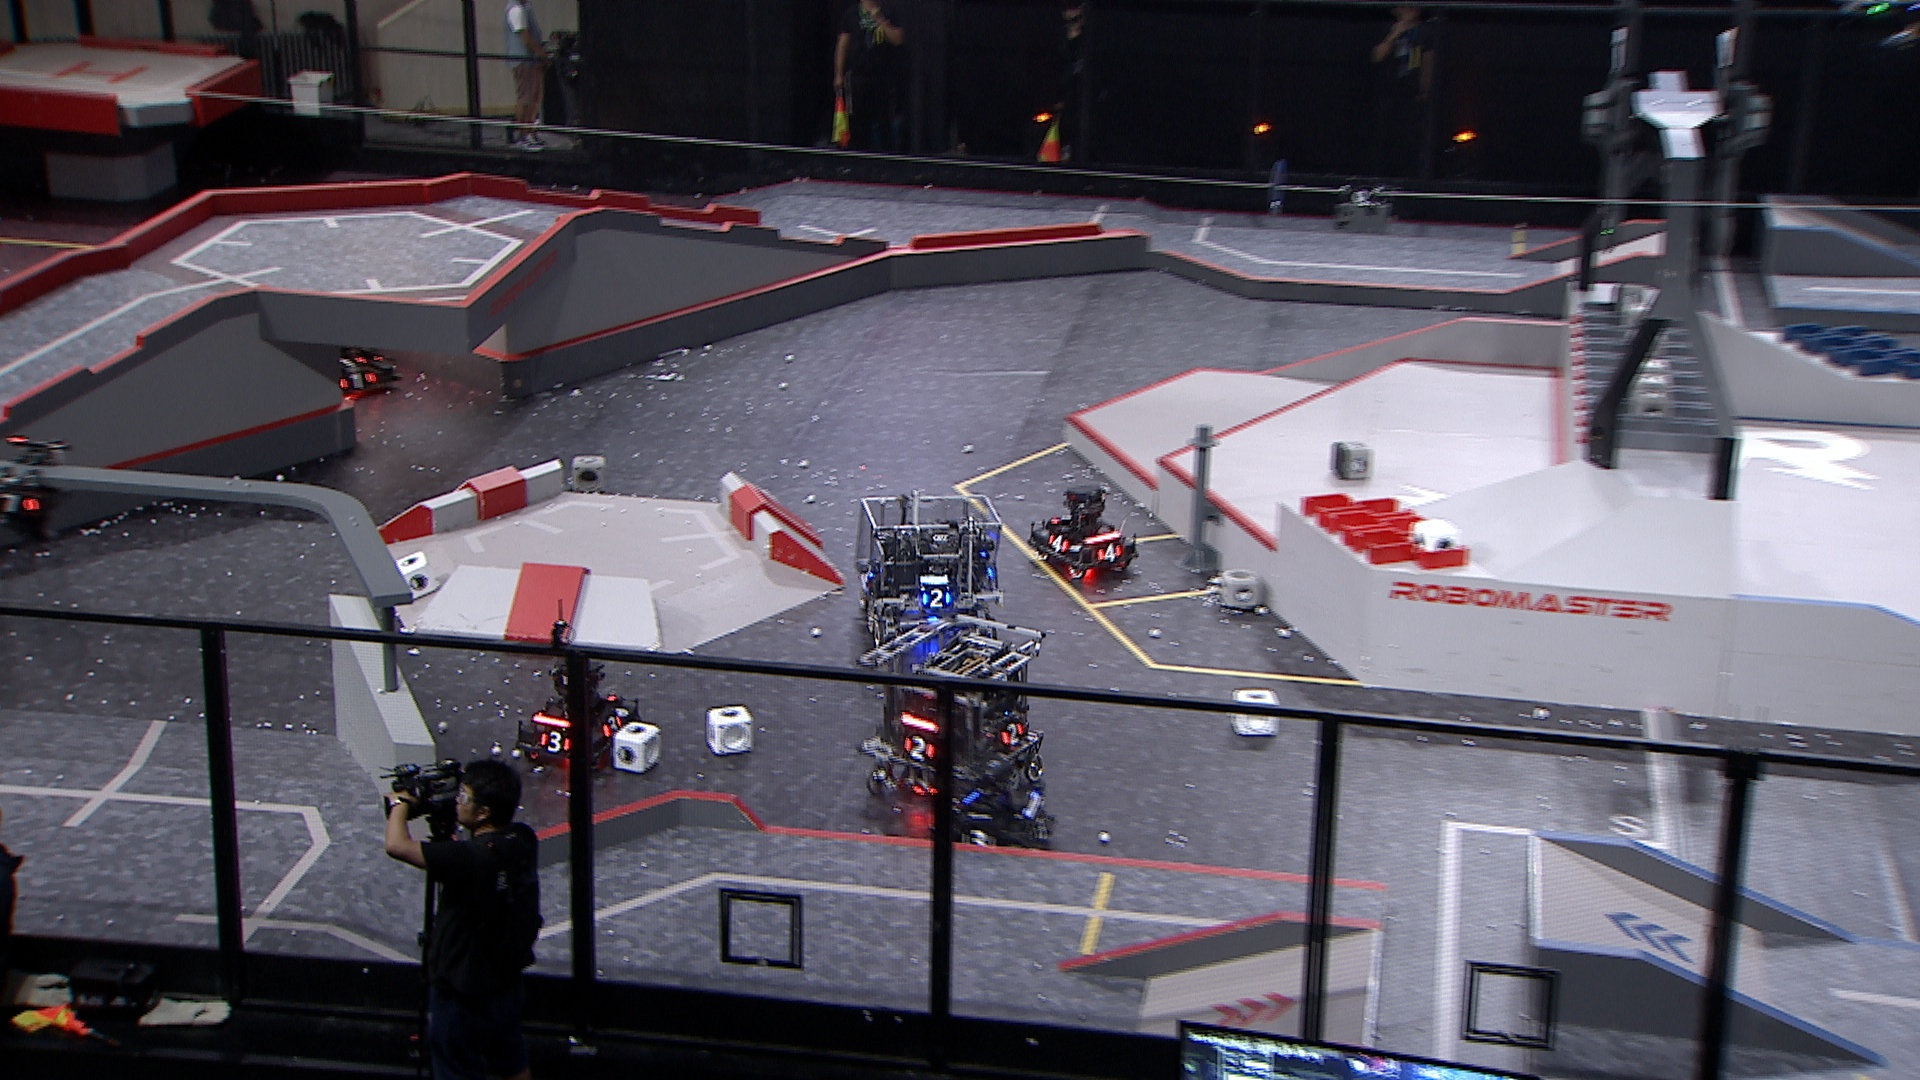armor: (901, 733, 938, 764), (0, 491, 40, 517), (338, 372, 380, 394), (961, 827, 997, 851), (539, 731, 571, 756), (1096, 541, 1124, 564), (998, 723, 1025, 746), (1046, 533, 1072, 556), (1031, 816, 1054, 844), (920, 588, 951, 608), (603, 713, 622, 741), (338, 356, 368, 368), (864, 562, 877, 585)
car: (858, 615, 1050, 804), (856, 488, 1011, 651), (512, 650, 645, 777), (269, 282, 401, 404), (923, 756, 1059, 870), (1025, 483, 1145, 584)
